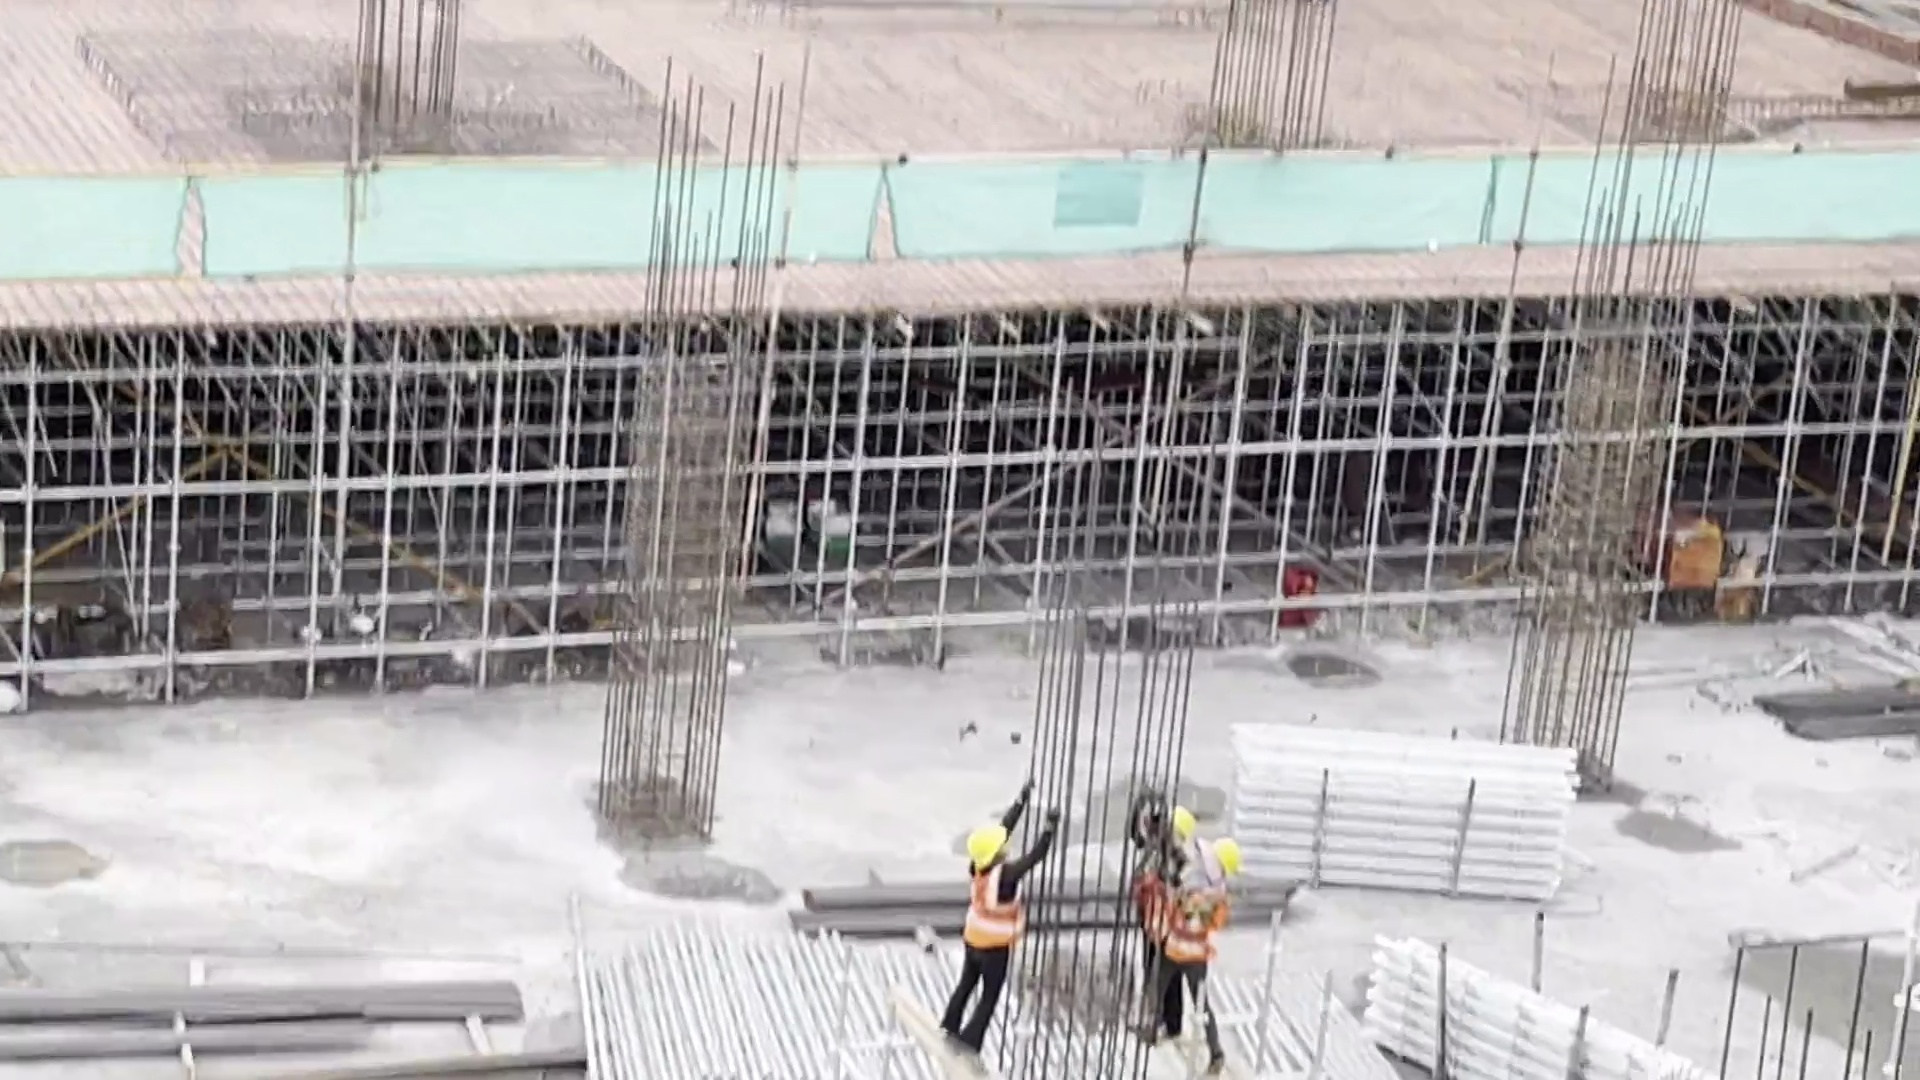helmet: (962, 821, 1000, 865), (1212, 838, 1241, 881), (1173, 809, 1195, 850)
person: (1156, 831, 1245, 1054), (954, 819, 1026, 1057), (1134, 792, 1196, 922)
rebar: (754, 849, 1319, 942), (1, 965, 536, 1023), (210, 1032, 588, 1080), (1754, 674, 1920, 752)
scaffold: (1215, 706, 1592, 904), (1364, 917, 1702, 1080)
vest: (964, 865, 1019, 952), (1170, 882, 1218, 970), (1133, 852, 1171, 932)
